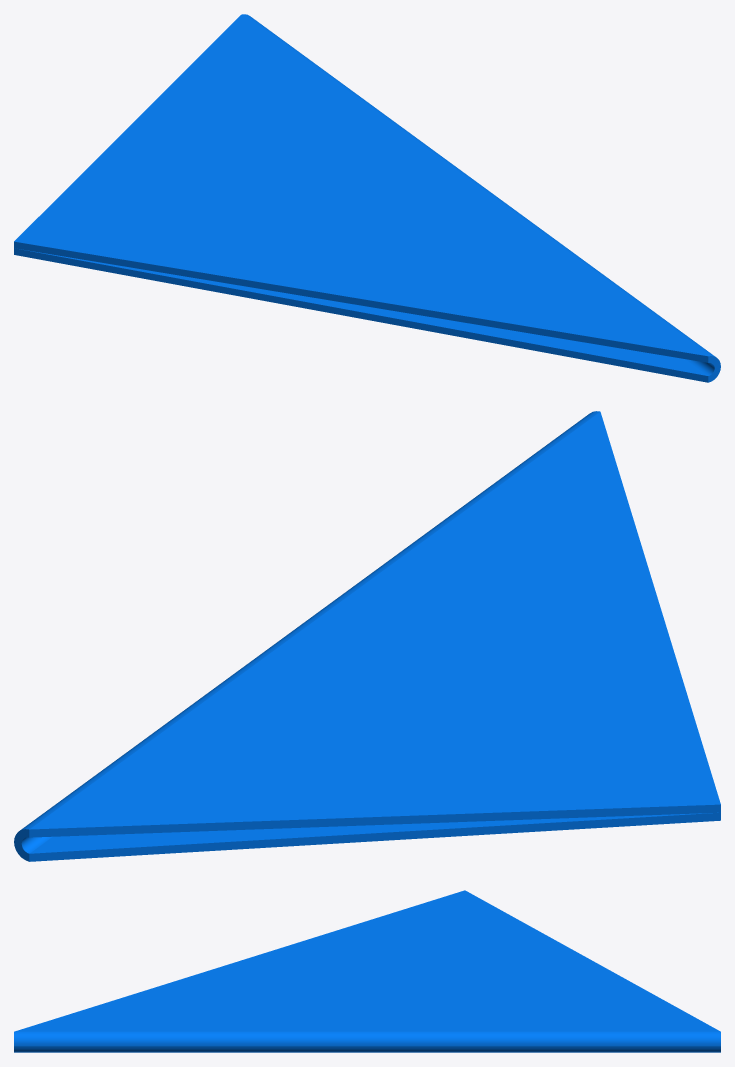
File: Napkin_5.fbx
The picture shows the model from 3 angles, top to bottom: view 1: azimuth 30°, elevation 25°; view 2: azimuth 150°, elevation 25°; view 3: azimuth 270°, elevation 25°; orthographic projection. The views are drawn at different scales.
Visible parts, largest first — view 1: Napkin1; view 2: Napkin1; view 3: Napkin1.
Part boxes in pixels (x1,y1,x2,y2): Napkin1: [14, 14, 720, 382]; Napkin1: [14, 411, 720, 861]; Napkin1: [14, 890, 720, 1052].
Size of the model in its own units: 10.28 by 0.635 by 20.32.
